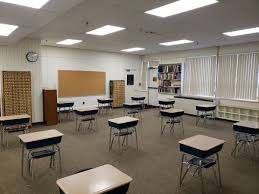desk: (176, 132, 225, 193), (17, 128, 64, 180), (54, 163, 132, 193), (108, 115, 139, 150), (0, 112, 31, 146), (232, 119, 258, 159), (159, 106, 184, 137), (74, 104, 98, 132), (195, 103, 216, 127), (55, 99, 74, 123), (97, 96, 114, 117), (121, 100, 141, 117), (157, 97, 175, 108), (131, 94, 145, 104)
